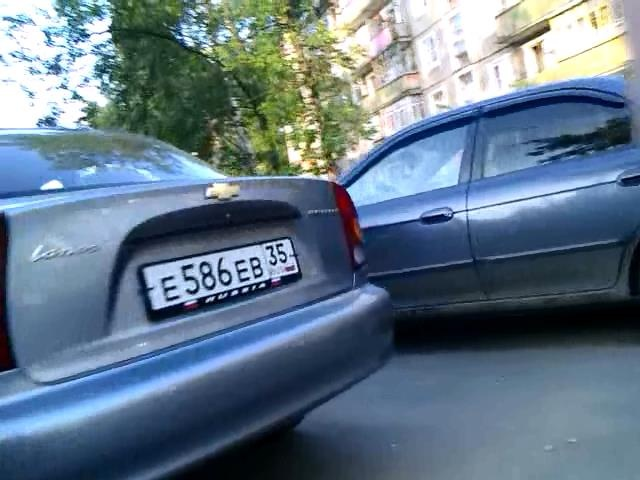car license plate: (141, 238, 302, 315)
